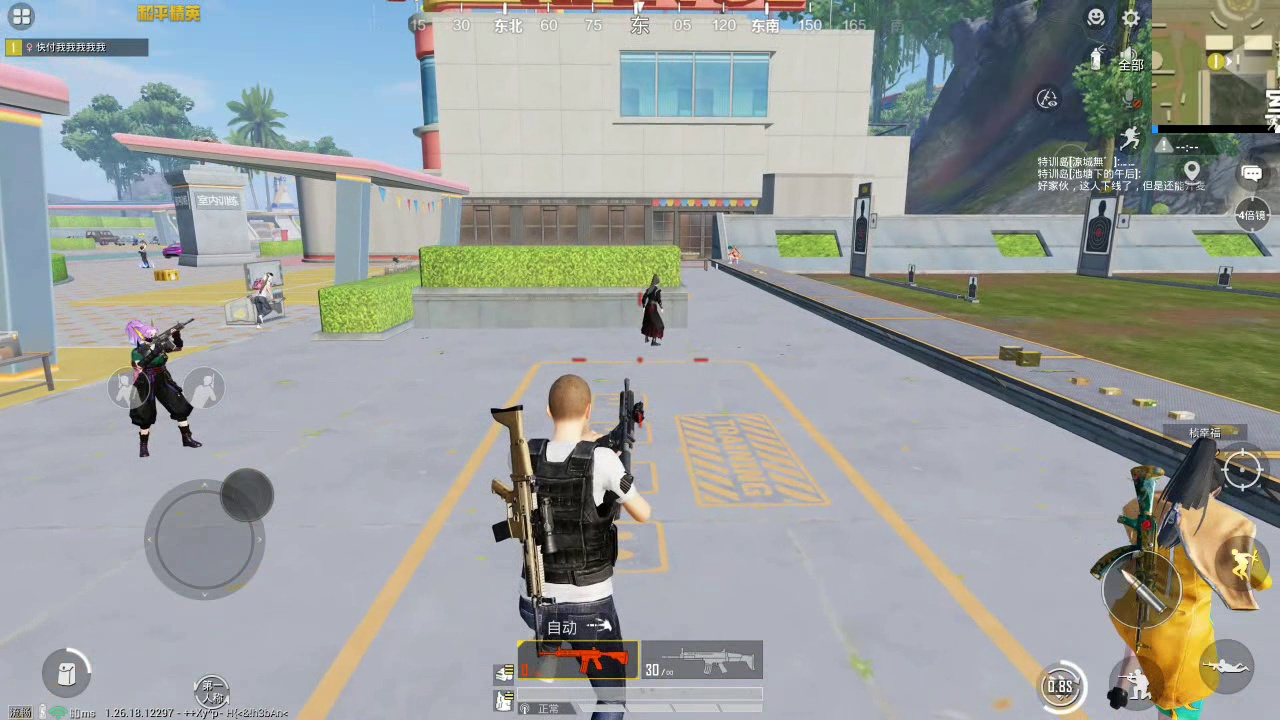enemy: (1113, 444, 1255, 720), (123, 318, 198, 449), (637, 272, 667, 347), (249, 271, 275, 324), (723, 241, 742, 267), (135, 238, 151, 265)
